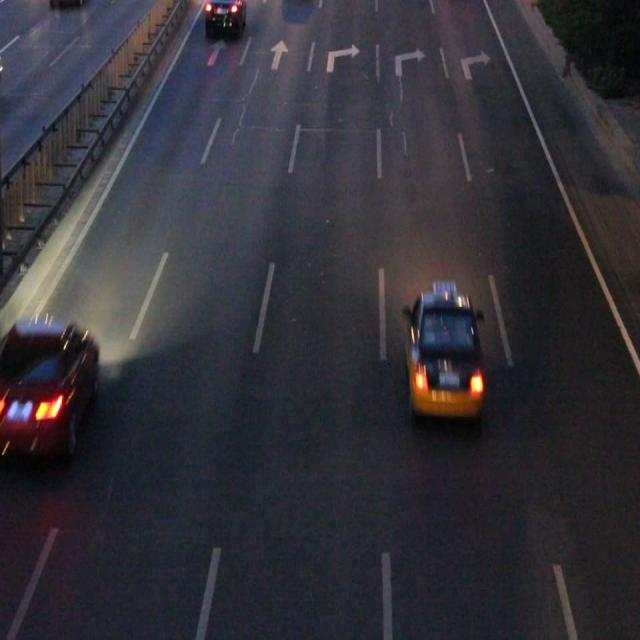car: (0, 322, 96, 457), (403, 292, 480, 416), (205, 1, 244, 32)
